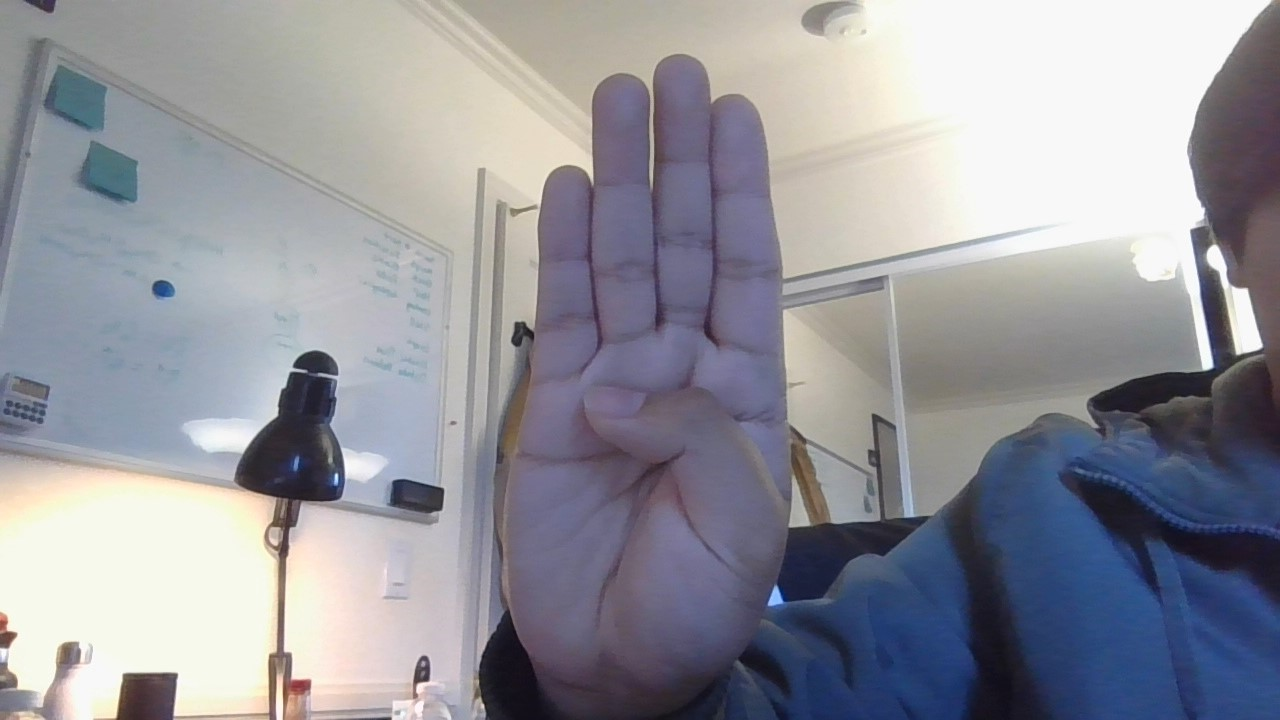b: (452, 36, 881, 720)
